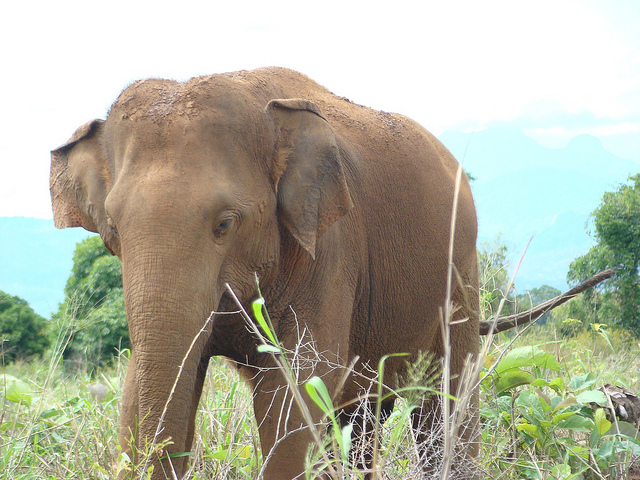elephant: (38, 58, 541, 480)
